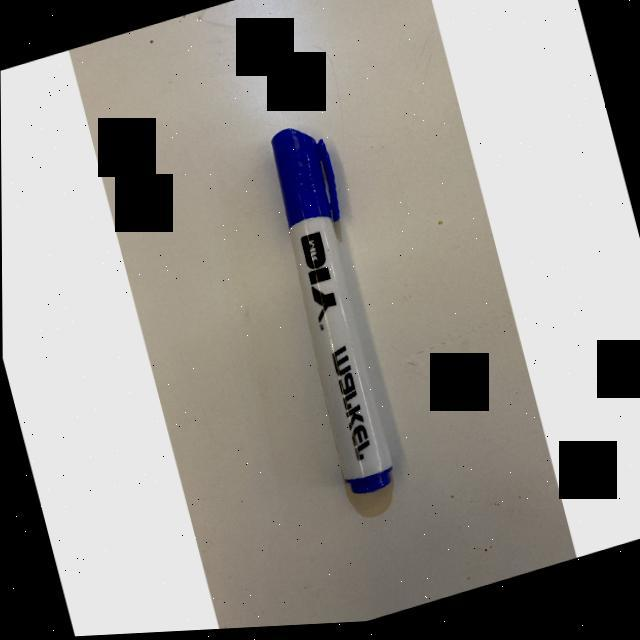marker: (269, 129, 404, 499)
